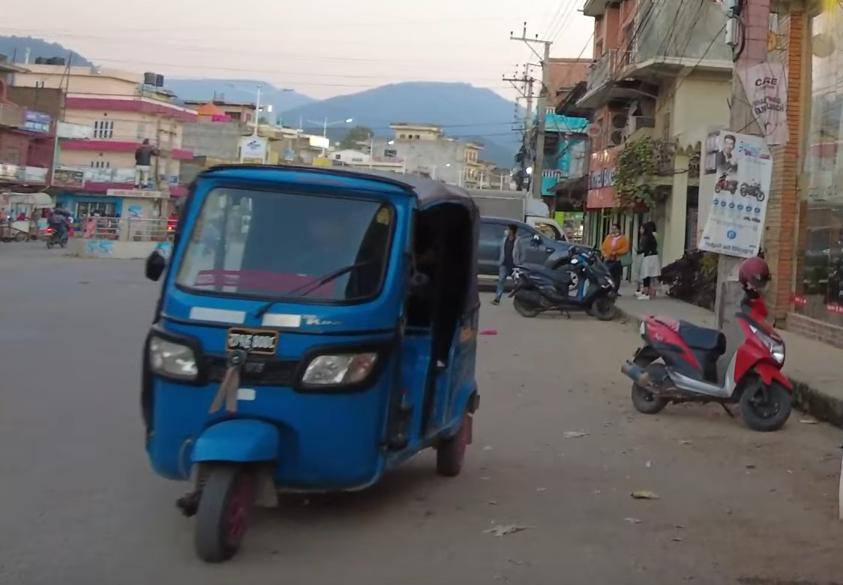auto_rickshaw: (132, 160, 491, 567)
